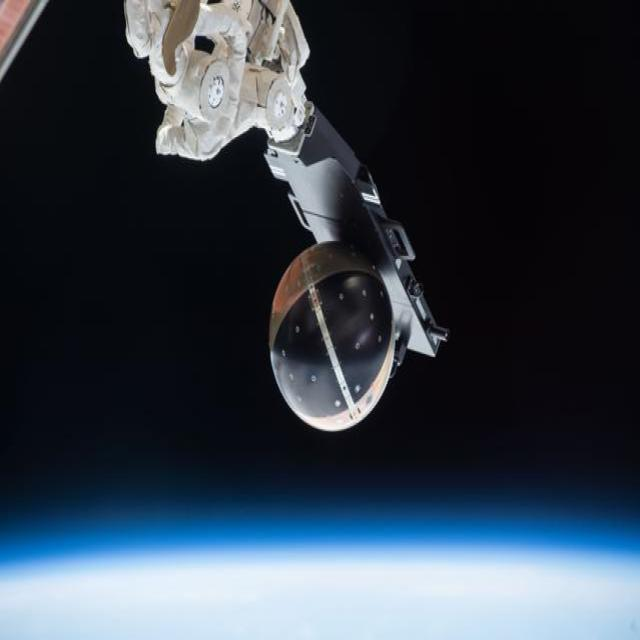satellite: (127, 0, 448, 430)
